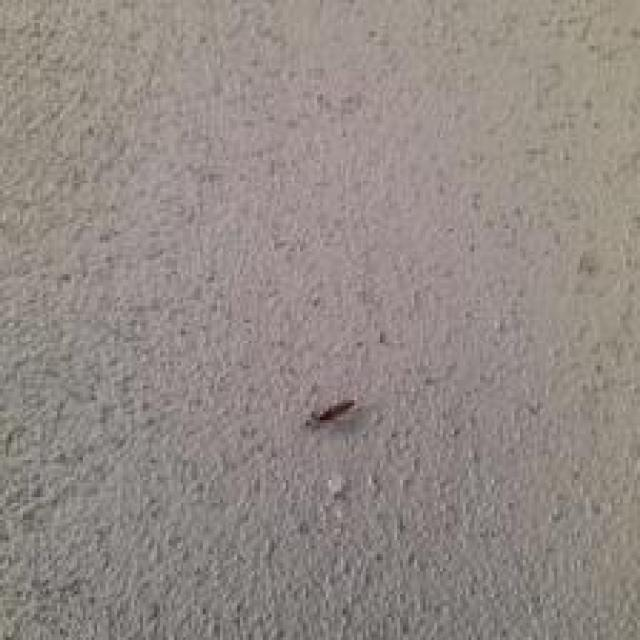Culex: (306, 396, 357, 430)
